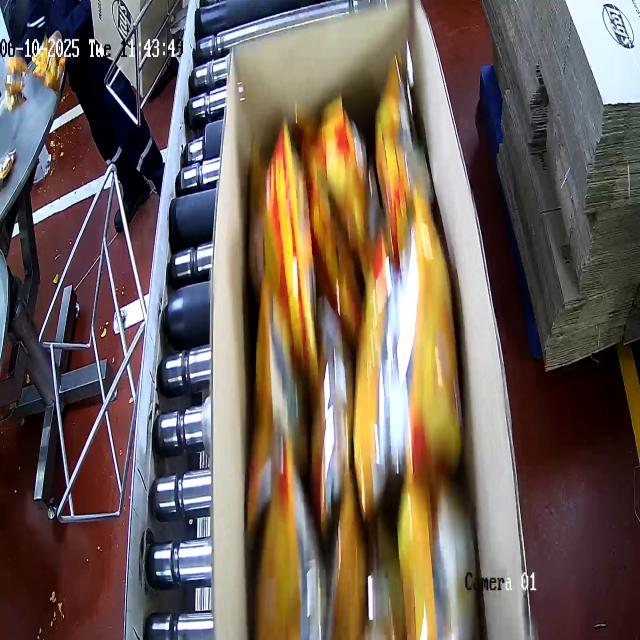FRENCH_CHEESE: (238, 100, 477, 640)
